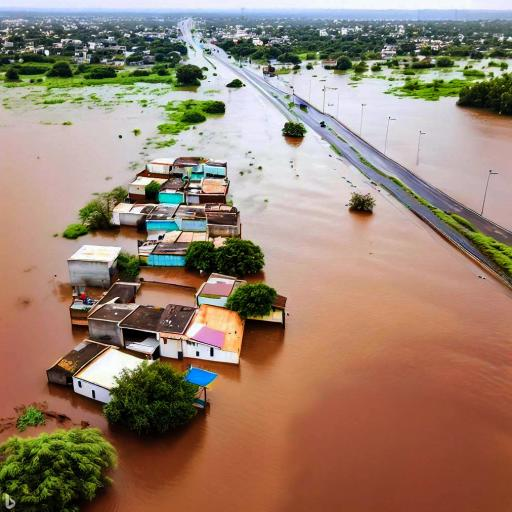flood: (0, 59, 512, 512), (0, 63, 512, 512), (83, 69, 512, 512), (0, 85, 173, 425), (280, 65, 512, 230), (137, 267, 208, 306), (412, 59, 512, 81), (186, 50, 211, 68)
house: (48, 339, 144, 407), (156, 300, 244, 364), (198, 271, 288, 330), (114, 200, 243, 240), (88, 296, 162, 354), (126, 172, 231, 204), (67, 243, 121, 287), (144, 153, 230, 179), (148, 241, 187, 265)
